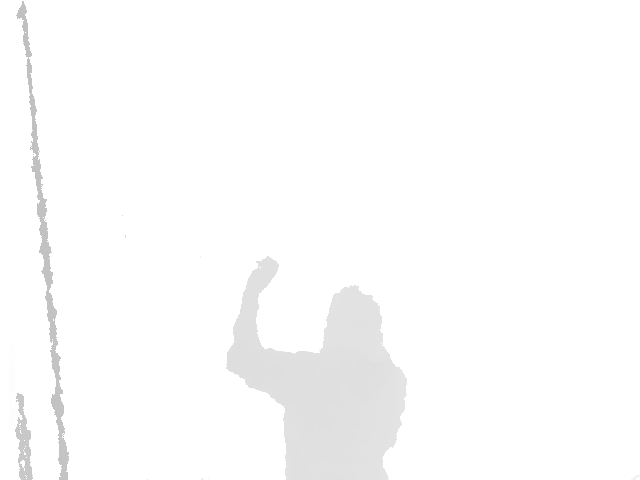hand: (245, 255, 280, 295)
head: (321, 284, 384, 355)
person: (226, 255, 409, 480)
